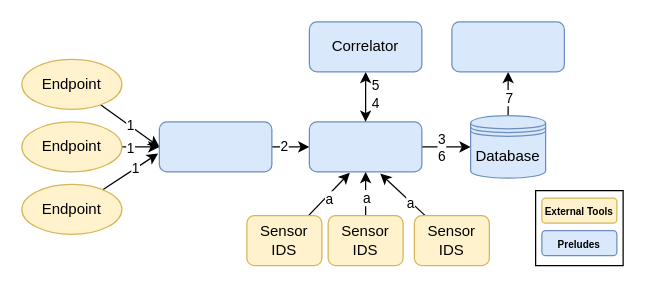
Some shapes in this 645 by 288 pixel diagram are drawn without their labels. The shapes that lost their labels are listed below. From the top down, each one's centre as x and y in pixels, then its label:
At pixel 507 46: "grafische Benutzeroberfläche".
At pixel 215 146: "Log Monitoring Lackey".
At pixel 365 146: "Manager".
